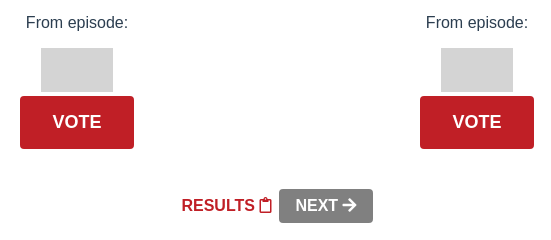
VotingPage › when voting is successful › displays the percentage of people that voted for each image
Click the 1st button "Vote": (77, 122) left=16, top=92, right=138, bottom=153
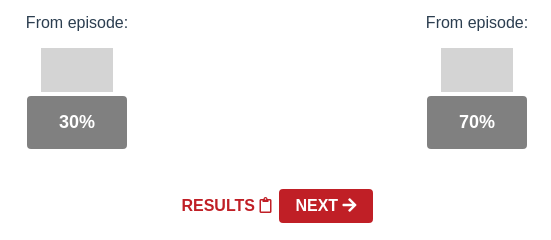
Now the button "30%" is shown, box left=23, top=92, right=131, bottom=153
Now the button "70%" is shown, box left=423, top=92, right=531, bottom=153
